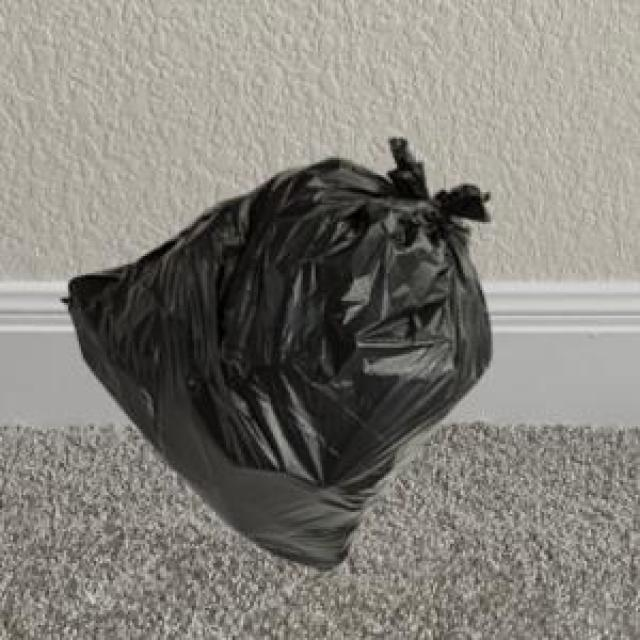waste: (69, 139, 491, 567)
